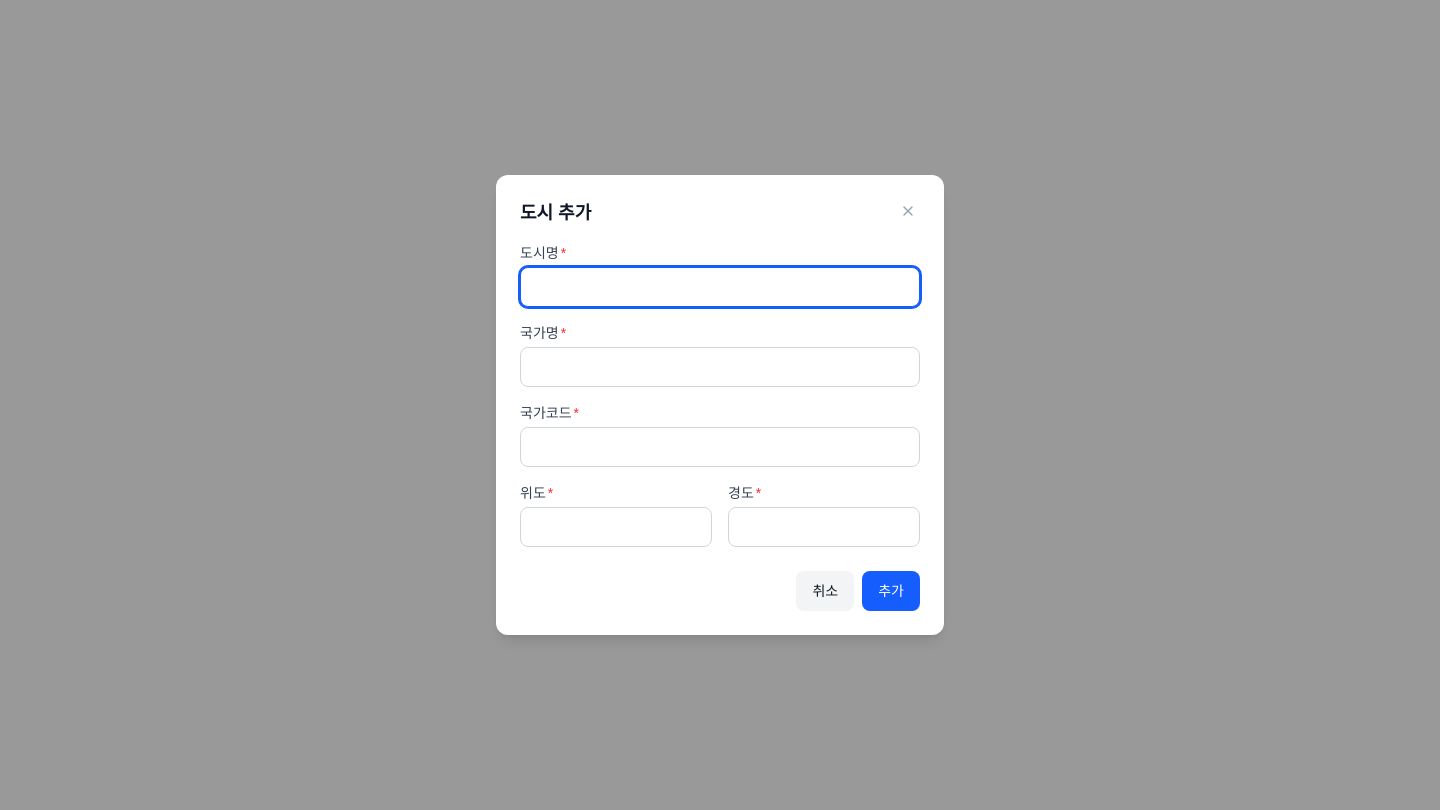
Test: CityFormModal - create mode (F3) › 국가코드가 alpha-2 형식이 아니면 검증 오류를 표시한다
The width and height of the screenshot is (1440, 810).
Type "Busan" into the field labelled "도시명*" at coordinates (720, 287), box [520,267,920,307]
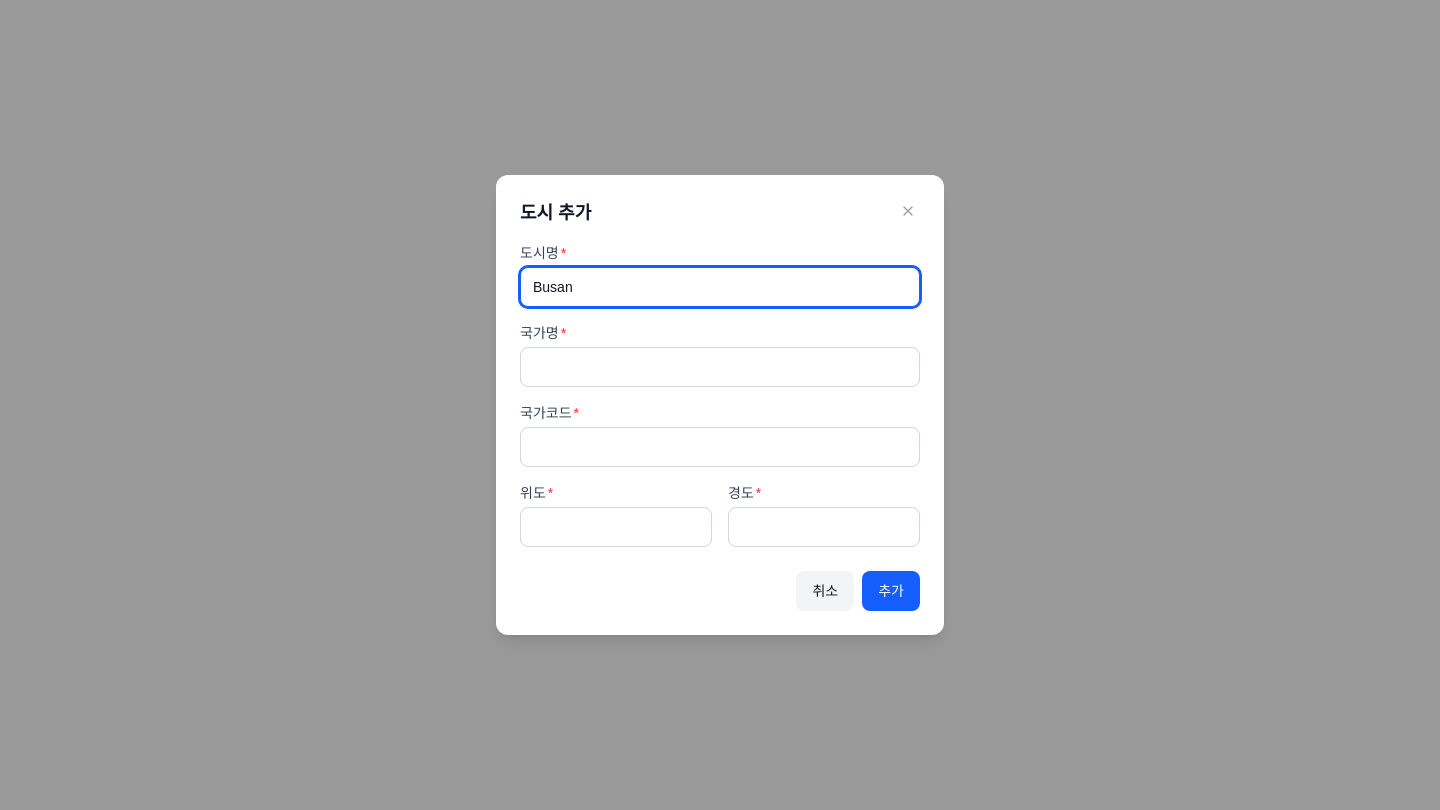
Type "South Korea" into the field labelled "국가명*" at coordinates (720, 367), box [520,347,920,387]
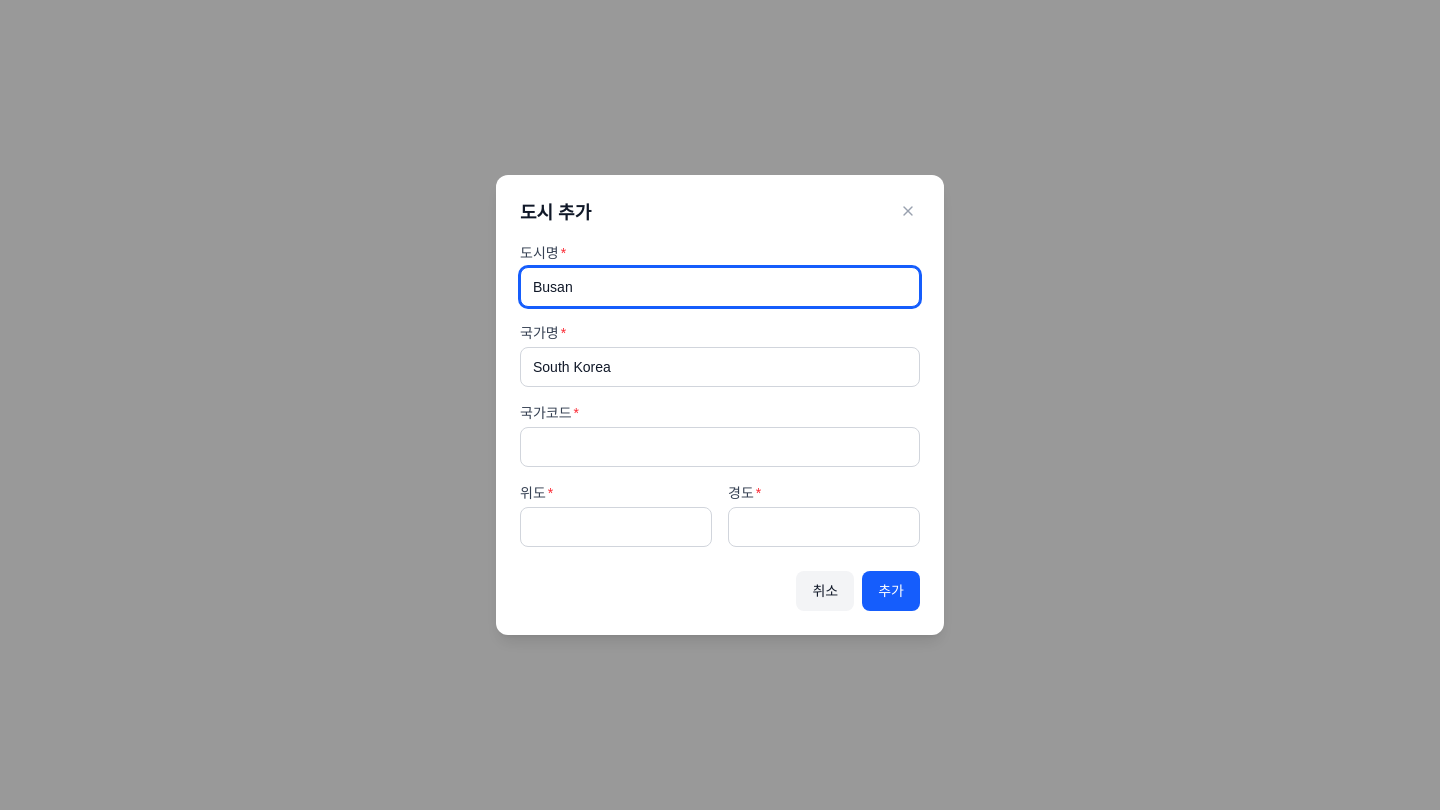
Type "KOR" into the field labelled "국가코드*" at coordinates (720, 447), box [520,427,920,467]
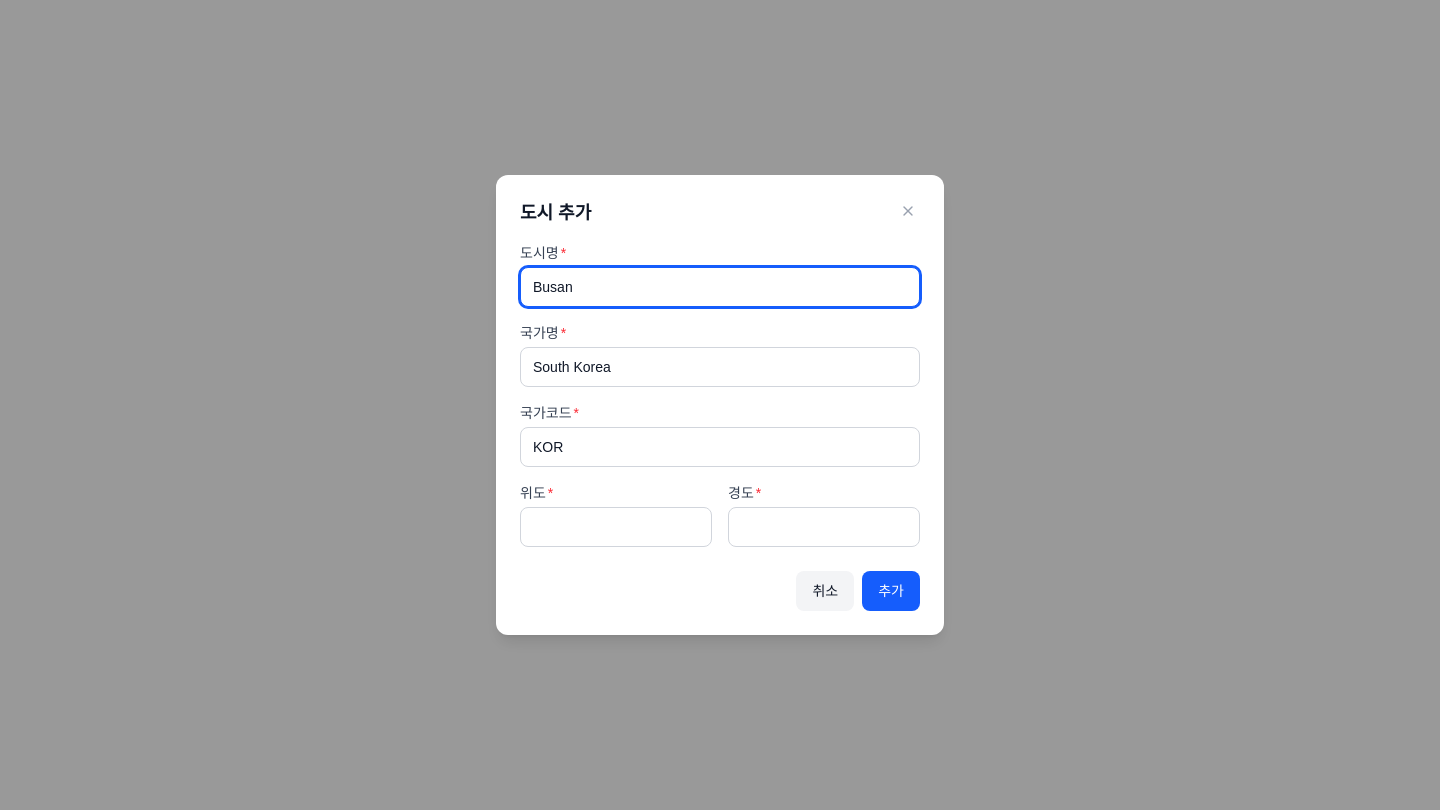
Type "35.1796" into the field labelled "위도*" at coordinates (616, 527), box [520,507,712,547]
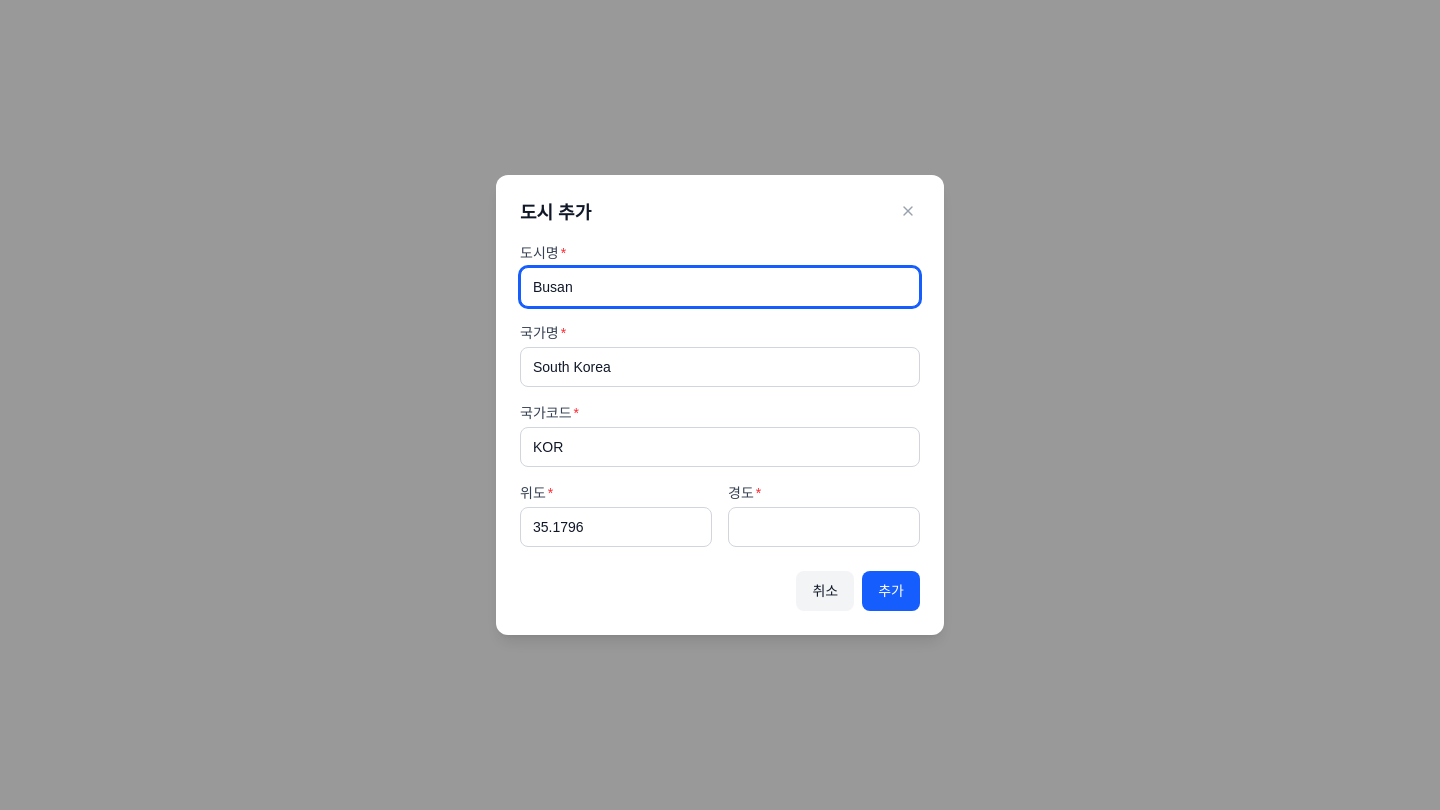
Type "129.0756" into the field labelled "경도*" at coordinates (824, 527), box [728,507,920,547]
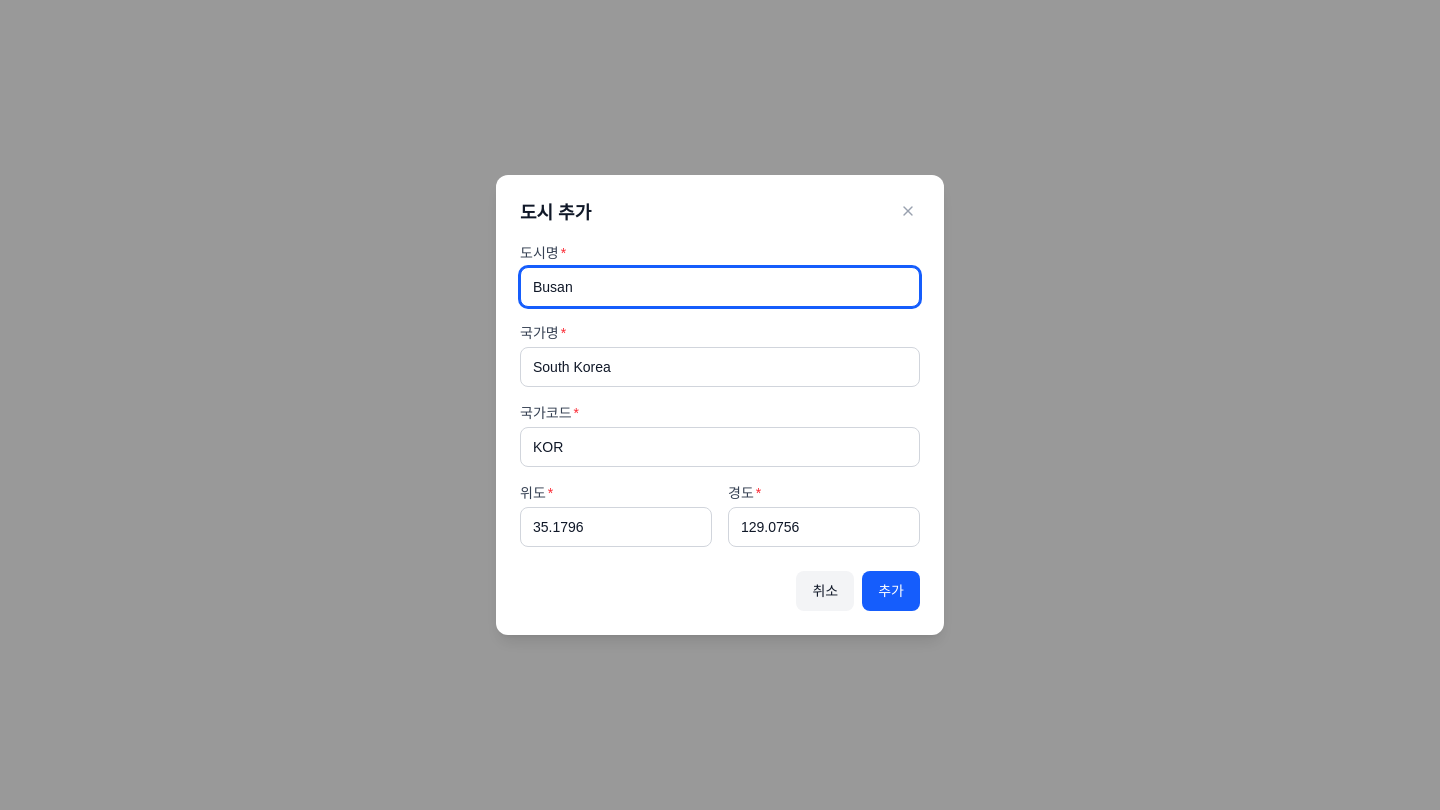
Click the button "추가" at coordinates (891, 591), box [862,571,920,611]
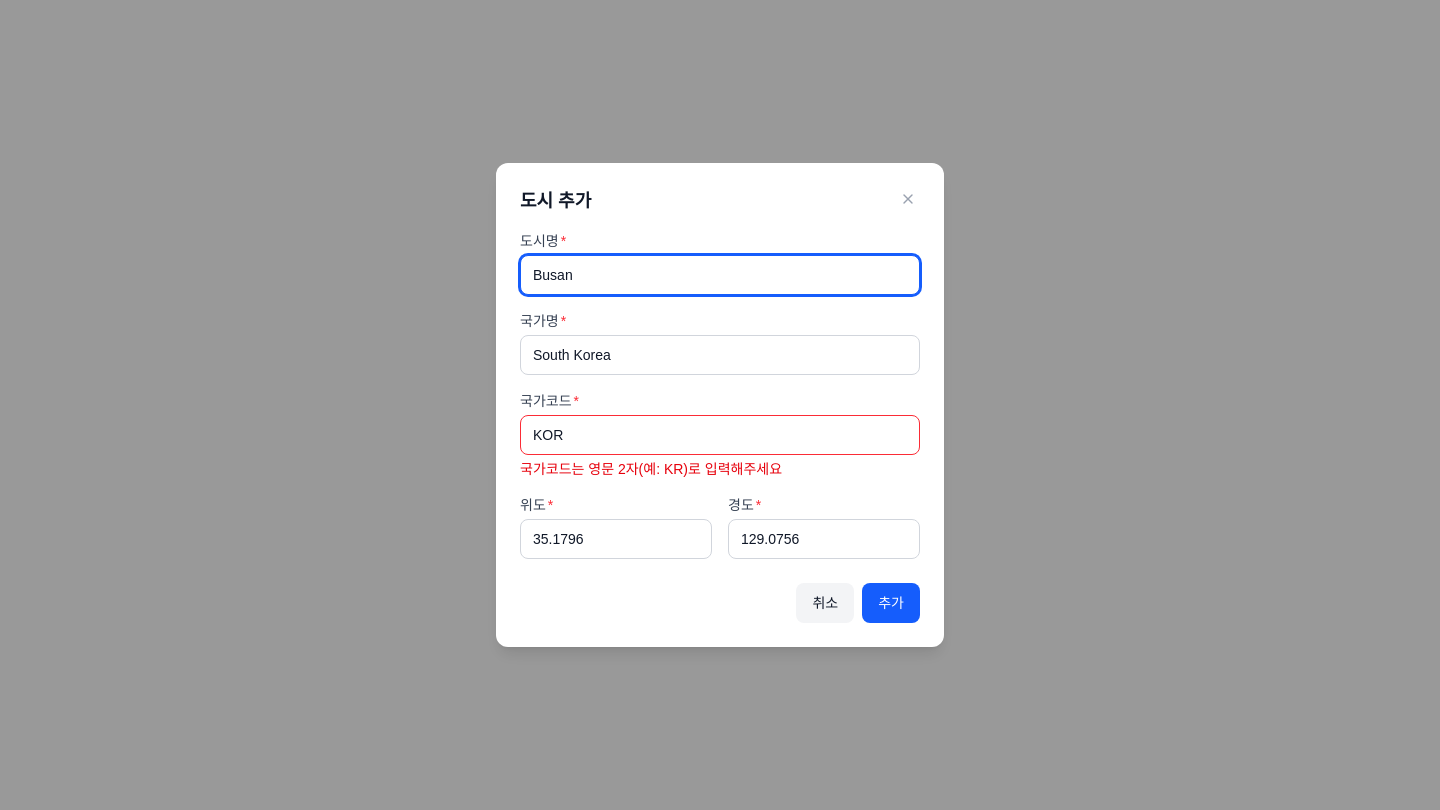
Now the text "국가코드는 영문 2자(예: KR)로 입력해주세요" is shown, box [520,461,782,477]
